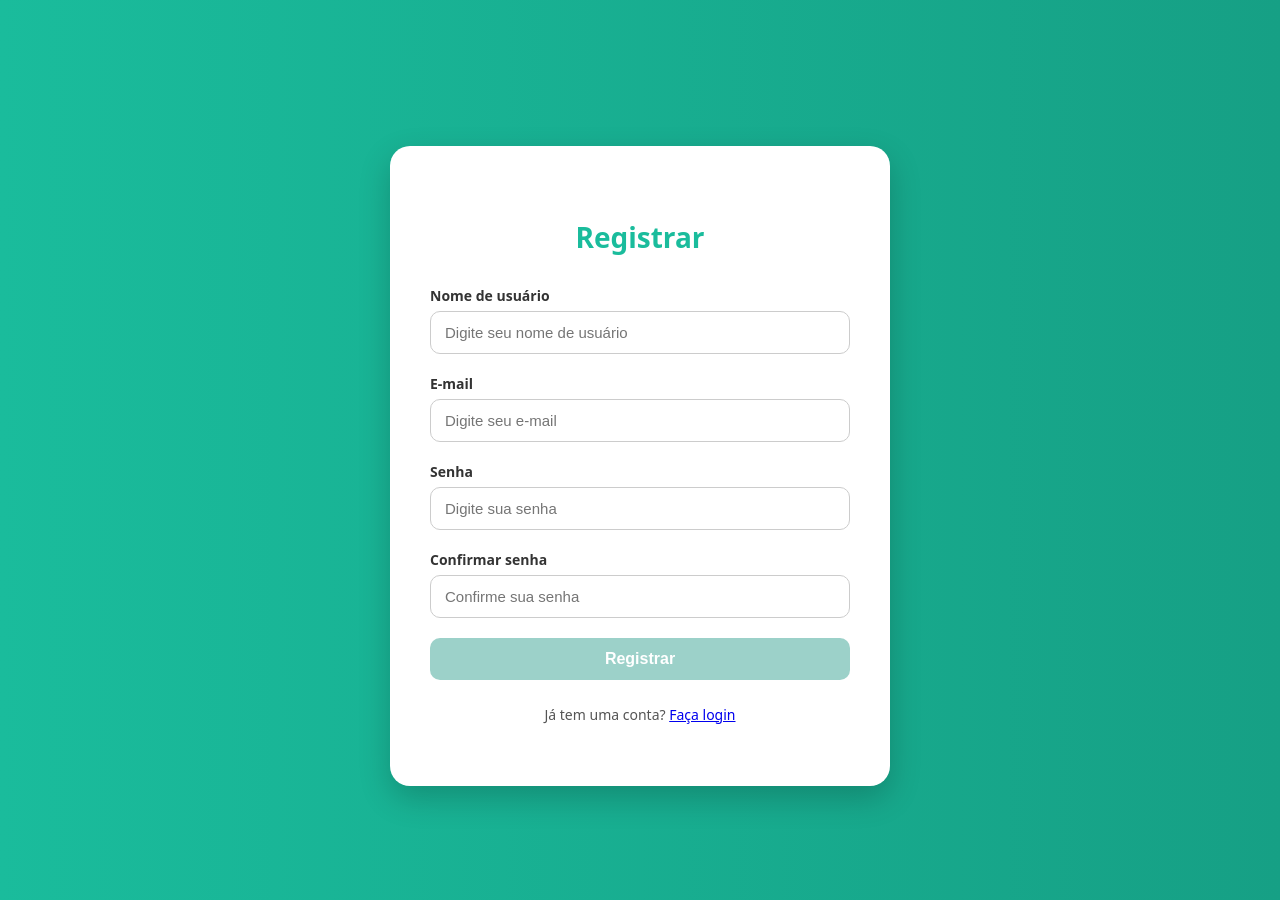
Test case: Register › exibe mensagem de erro se a API falhar
This screenshot has width=1280, height=900.
Step 1. Type "joao" into the field labelled "Nome de usuário" → [640, 332], box [430, 311, 850, 354]
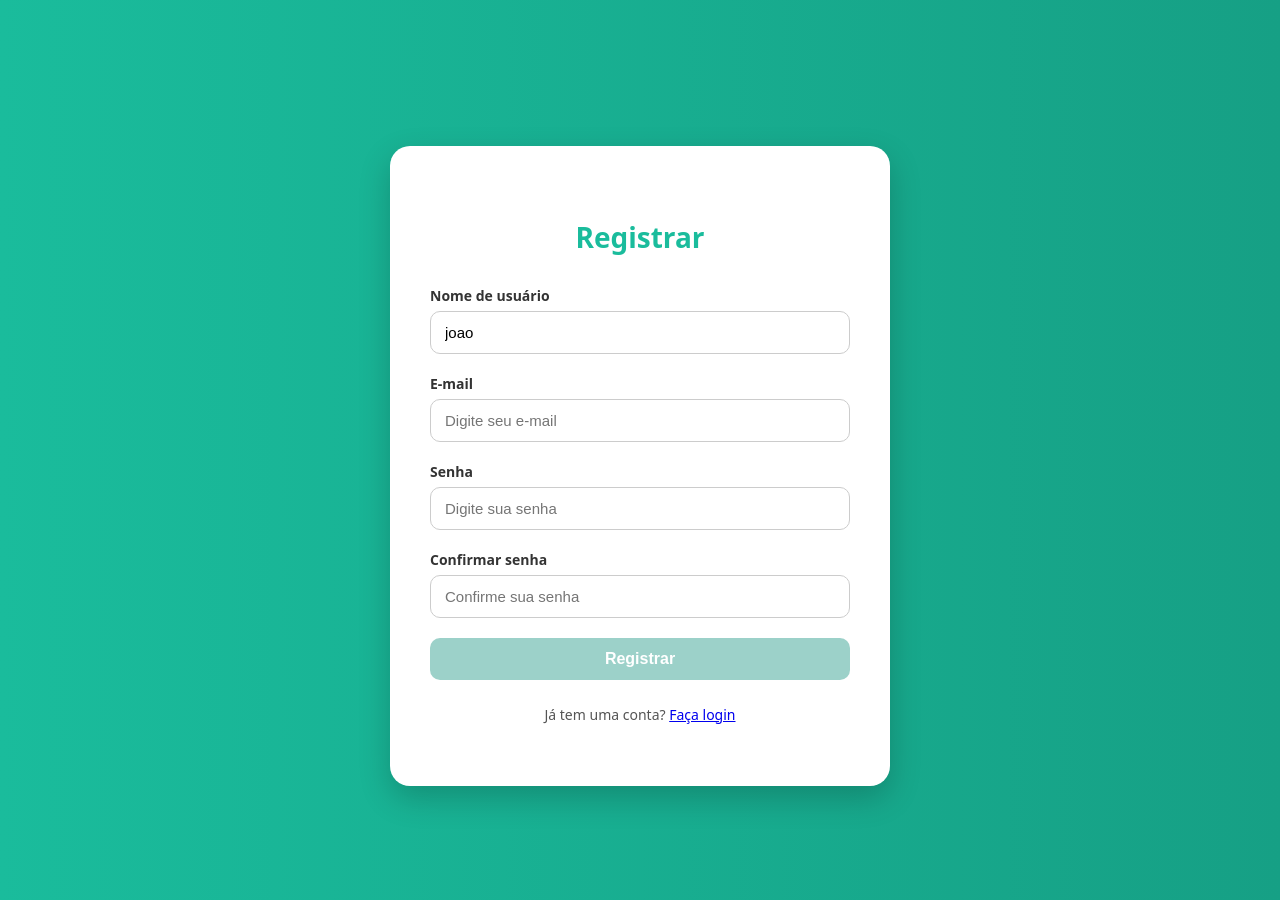
Step 2. Type "joao@email.com" into the field labelled "E-mail" → [640, 420], box [430, 399, 850, 442]
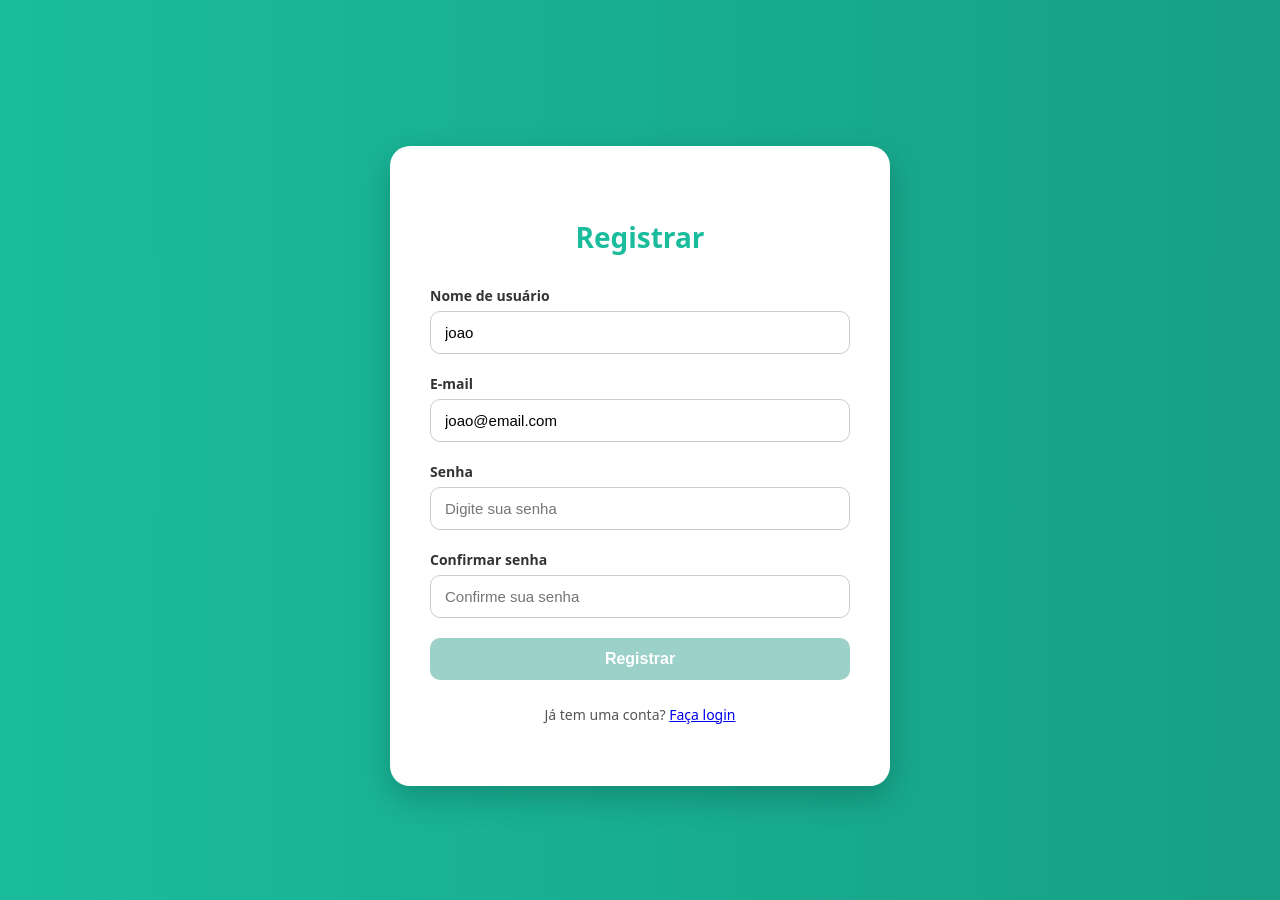
Step 3. Type "123456" into the password field labelled "Senha" → [640, 508], box [430, 487, 850, 530]
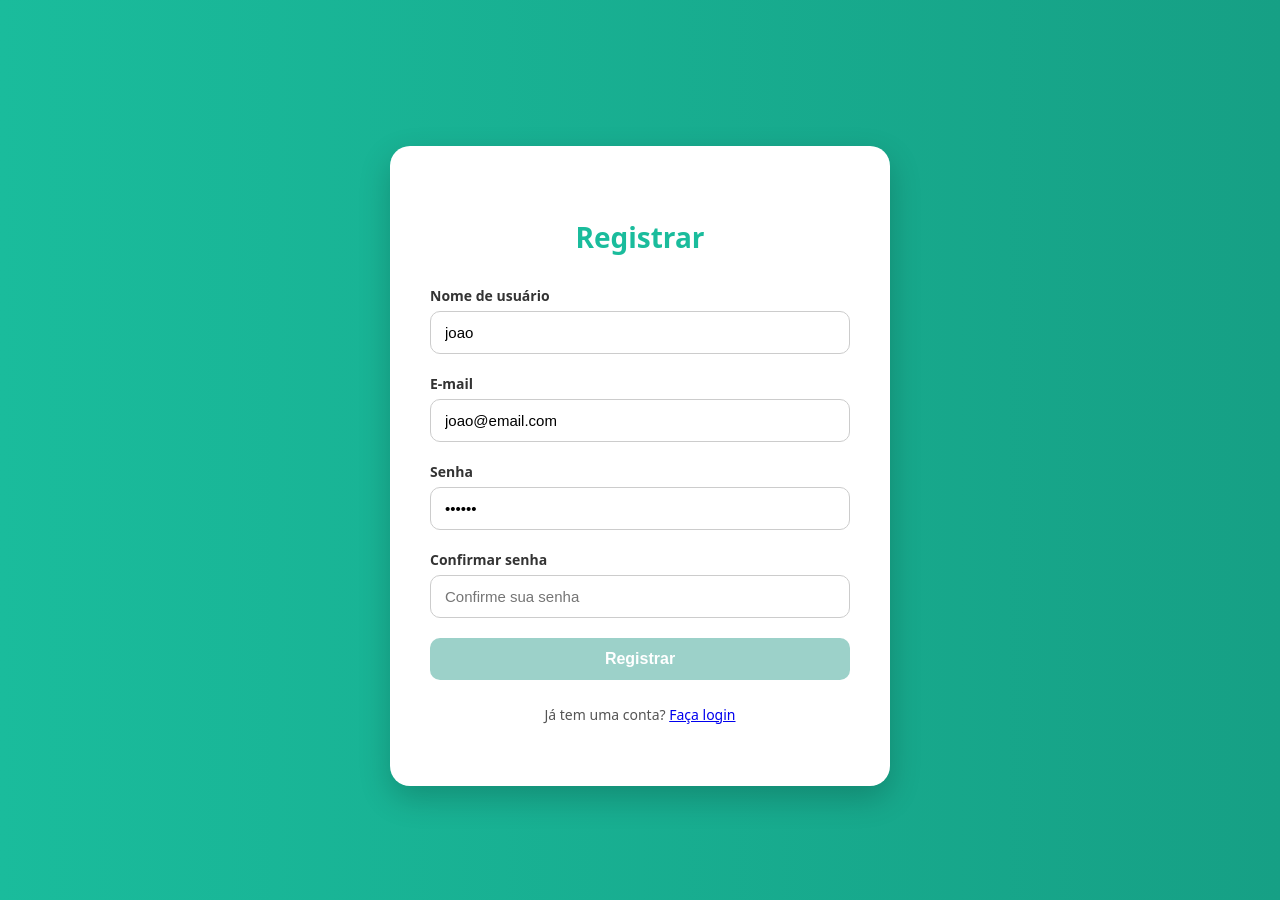
Step 4. Type "123456" into the password field labelled "Confirmar senha" → [640, 596], box [430, 575, 850, 618]
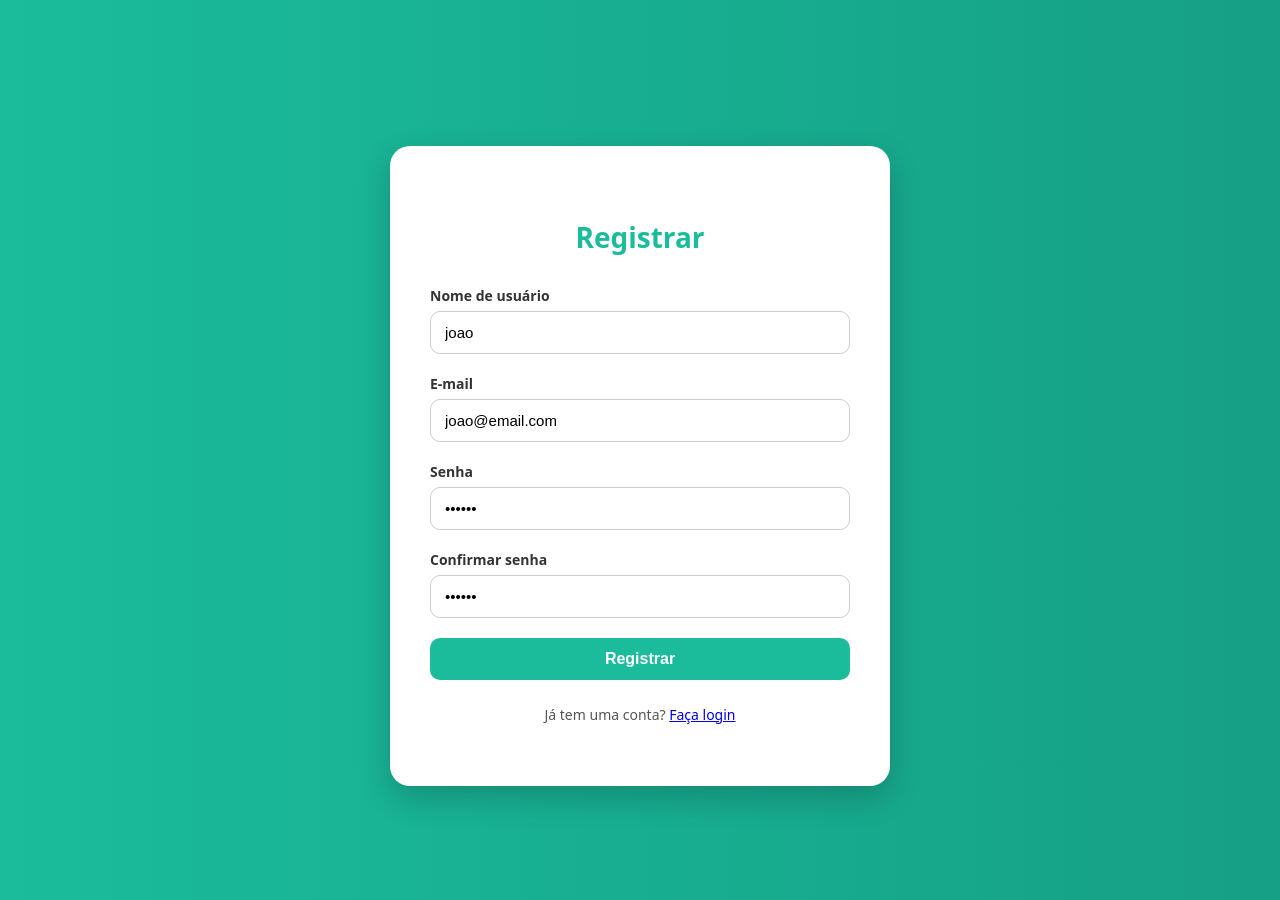
Step 5. Click the button "Registrar" → [640, 659], box [430, 638, 850, 680]
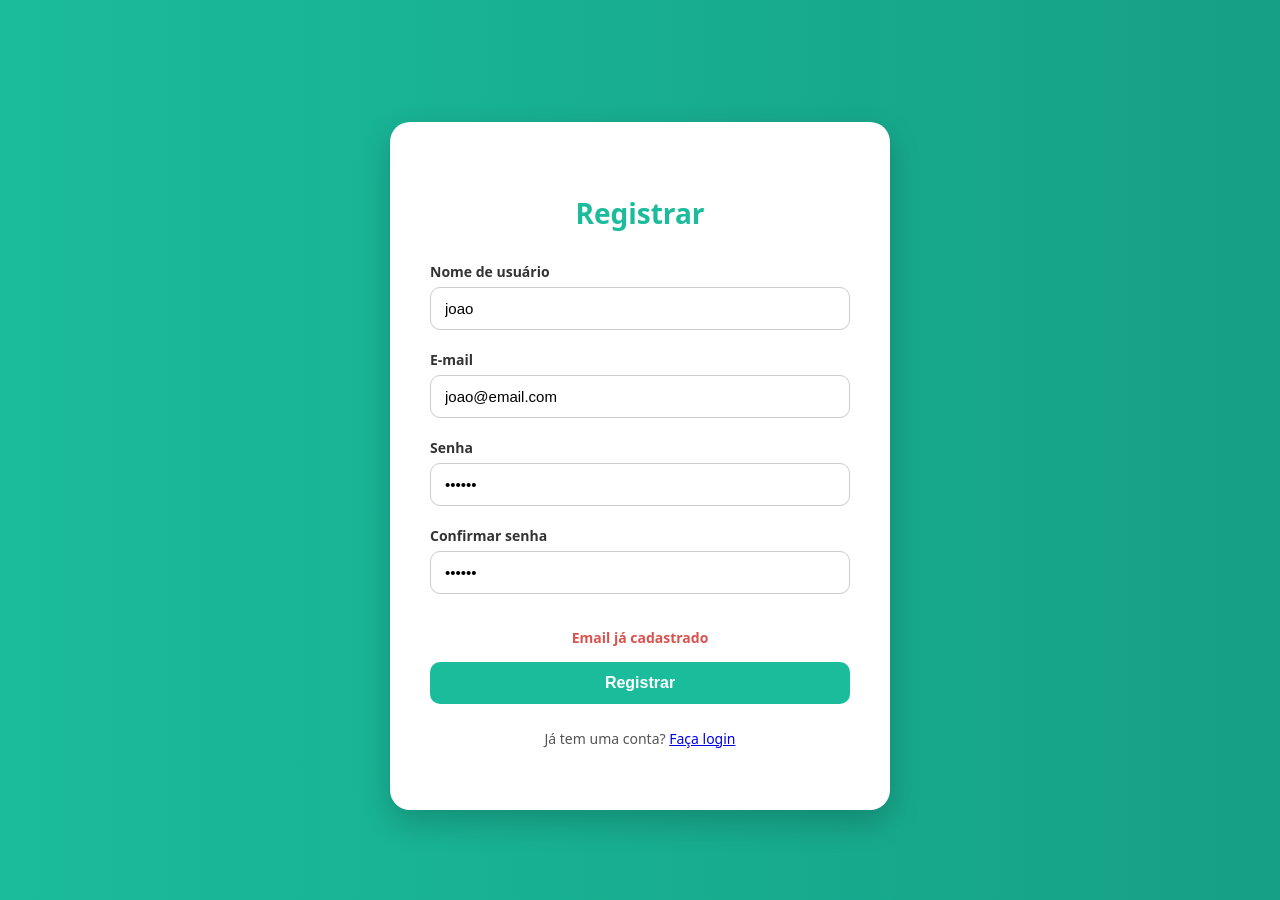
Check: the text "Email já cadastrado" is shown, box [572, 628, 708, 647]
